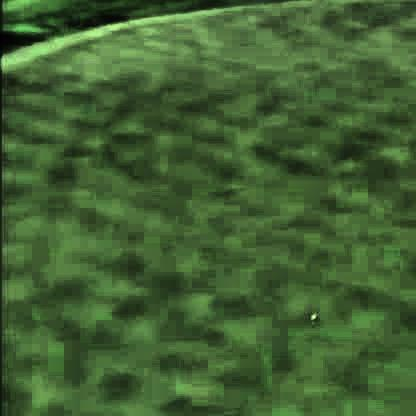golfball: (309, 310, 316, 317)
